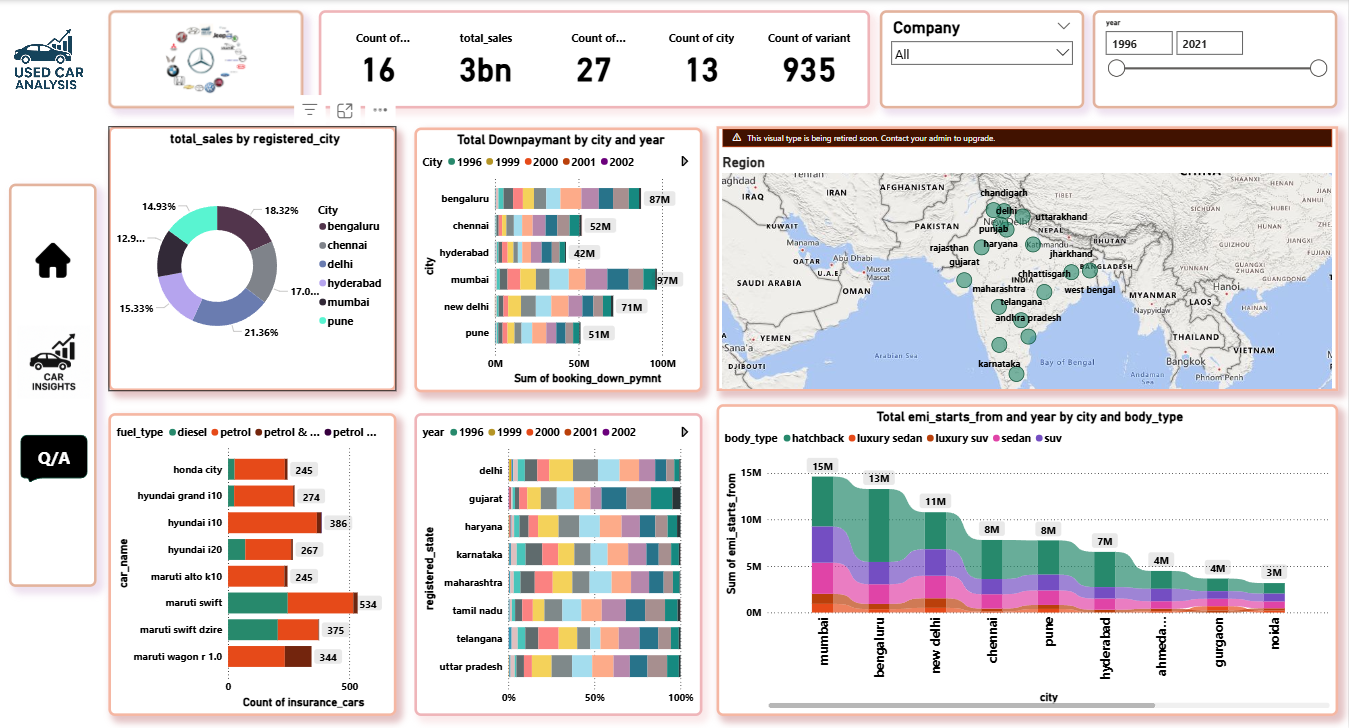

The dashboard page shown, as its layout file describes it:
{"tool":"powerbi","page":{"name":"Page 1","canvas":[2000,1080],"ordinal":0},"visuals":[{"type":"ImageGrid_FC5183B9_926C_45E0_B5F7_0CE9EAF1DA9B","fields":{"ImageURLHQ":["used_clean_data.company_images"]},"box":[161.7,16,289.4,145.7],"z":1000},{"type":"image","box":[13.4,15.3,119,145.8],"z":2000},{"type":"slicer","fields":{"Values":["used_clean_data.year"]},"box":[1621.3,15.1,363.2,145.7],"z":4000},{"type":"shape","box":[13.4,272.5,130.5,598.6],"z":5000},{"type":"image","box":[19.2,355,119,61.4],"z":6000},{"type":"image","box":[20,475.1,117.8,123.8],"z":8000},{"type":"actionButton","box":[30.3,355.7,100.3,60.5],"z":10000},{"type":"actionButton","box":[14,475.1,125.8,129.7],"z":11000},{"type":"cardVisual","fields":{"Data":["Count(used_clean_data.registered_state)","used_clean_data.total_sales","Count(used_clean_data.Company)","Count(used_clean_data.city)","Count(used_clean_data.variant)"]},"box":[473.1,16,818.4,145.7],"z":12000},{"type":"map","title":"Region","fields":{"Category":["used_clean_data.registered_state"]},"box":[1063.9,187.6,922.2,393.2],"z":13000},{"type":"donutChart","fields":{"Category":["used_clean_data.registered_city"],"Y":["used_clean_data.total_sales"]},"box":[161.7,187.6,427.2,393.2],"z":14000},{"type":"barChart","title":"Total Downpaymant  by city and year","fields":{"Category":["used_clean_data.city"],"Y":["Sum(used_clean_data.booking_down_pymnt)"],"Series":["used_clean_data.year"]},"box":[614.8,189.6,427.2,393.2],"z":15000},{"type":"ribbonChart","title":"Total emi_starts_from and year by city and body_type","fields":{"Y":["Sum(used_clean_data.emi_starts_from)"],"Series":["used_clean_data.body_type"],"Category":["used_clean_data.city"]},"box":[1063.9,598.8,922.2,463.1],"z":16000},{"type":"barChart","title":"Sum Insurance by car_name and fuel_type","fields":{"Category":["used_clean_data.car_name"],"Y":["CountNonNull(used_clean_data.insurance_cars)"],"Series":["used_clean_data.fuel_type"]},"box":[161.7,612.8,427.2,449.1],"z":17000},{"type":"hundredPercentStackedBarChart","fields":{"Series":["used_clean_data.year"],"Category":["used_clean_data.registered_state"],"Y":["CountNonNull(used_clean_data.Company)"]},"box":[614.8,612.8,427.2,449.1],"z":18000},{"type":"slicer","fields":{"Values":["used_clean_data.Company"]},"box":[1305.4,16,303.4,145.7],"z":19000},{"type":"shape","box":[29.9,644.7,99.8,71.9],"z":20000},{"type":"actionButton","box":[27.9,640.7,105.8,75.9],"z":21000}]}

Visuals, with their boxes in screenshot pixels (x1, y1, x2, y2), scaled from the page's 2000x1080 canvas onto the 1349x728 screenshot:
ImageGrid_FC5183B9_926C_45E0_B5F7_0CE9EAF1DA9B - used_clean_data.company_images: detection(109, 11, 304, 109)
image: detection(9, 10, 89, 109)
slicer - used_clean_data.year: detection(1094, 10, 1339, 108)
shape: detection(9, 184, 97, 587)
image: detection(13, 239, 93, 281)
image: detection(13, 320, 93, 404)
actionButton: detection(20, 240, 88, 281)
actionButton: detection(9, 320, 94, 408)
cardVisual - Count(used_clean_data.registered_state) x used_clean_data.total_sales: detection(319, 11, 871, 109)
"Region" map: detection(718, 126, 1340, 392)
donutChart - used_clean_data.registered_city x used_clean_data.total_sales: detection(109, 126, 397, 392)
"Total Downpaymant  by city and year" barChart: detection(415, 128, 703, 393)
"Total emi_starts_from and year by city and body_type" ribbonChart: detection(718, 404, 1340, 716)
"Sum Insurance by car_name and fuel_type" barChart: detection(109, 413, 397, 716)
hundredPercentStackedBarChart - used_clean_data.year x used_clean_data.registered_state: detection(415, 413, 703, 716)
slicer - used_clean_data.Company: detection(880, 11, 1085, 109)
shape: detection(20, 435, 87, 483)
actionButton: detection(19, 432, 90, 483)
